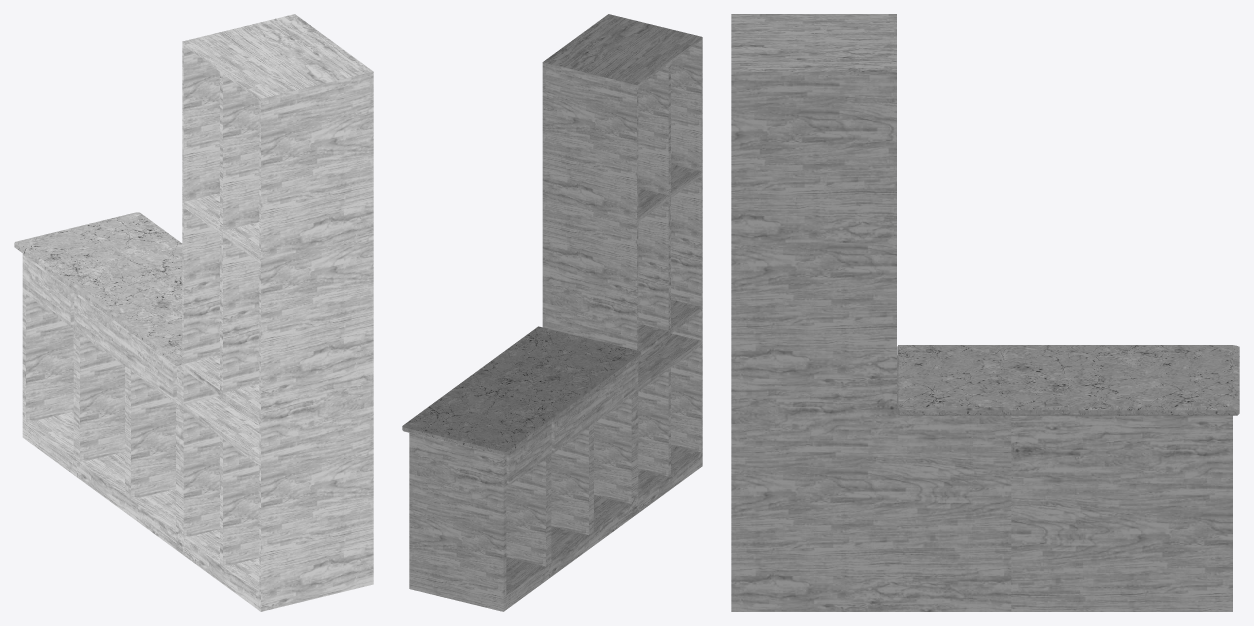
File: CabinetBody_3e5142ec.obj
3 views of the same model, side by side, from view 1: azimuth 30°, elevation 25°; view 2: azimuth 150°, elevation 25°; view 3: azimuth 270°, elevation 25° (orthographic). The views are drawn at different scales.
Parts seen in each view (by area): view 1: CabinetBody_3e5142ec; view 2: CabinetBody_3e5142ec; view 3: CabinetBody_3e5142ec.
Part boxes in pixels (box(x1,y1,x2,y2)): CabinetBody_3e5142ec: box(14, 14, 373, 611); CabinetBody_3e5142ec: box(402, 14, 702, 611); CabinetBody_3e5142ec: box(731, 14, 1239, 611).
Size of the model in its own units: 0.6136 by 2.4 by 2.05.
